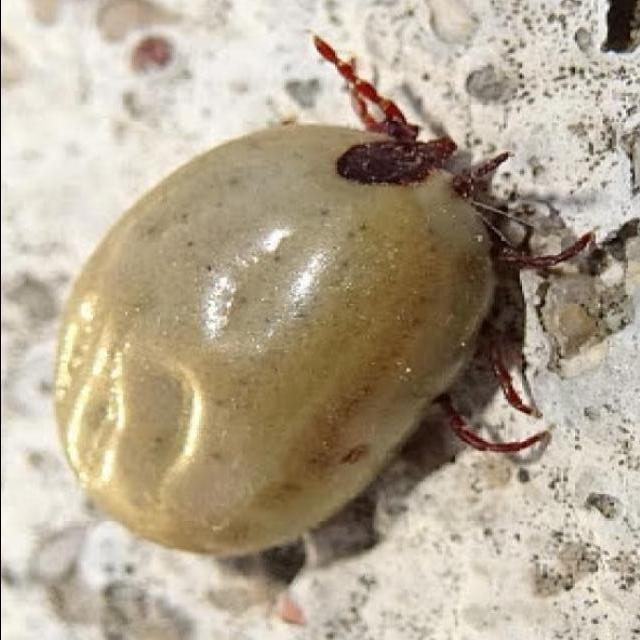Rhipicephalus Sanguineus-F-Fed: (50, 34, 599, 558)
